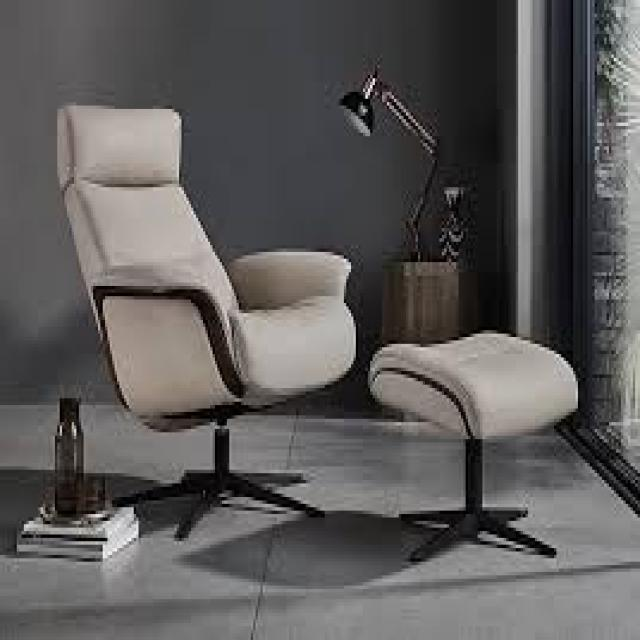chair: (49, 60, 368, 578), (367, 63, 590, 599)
